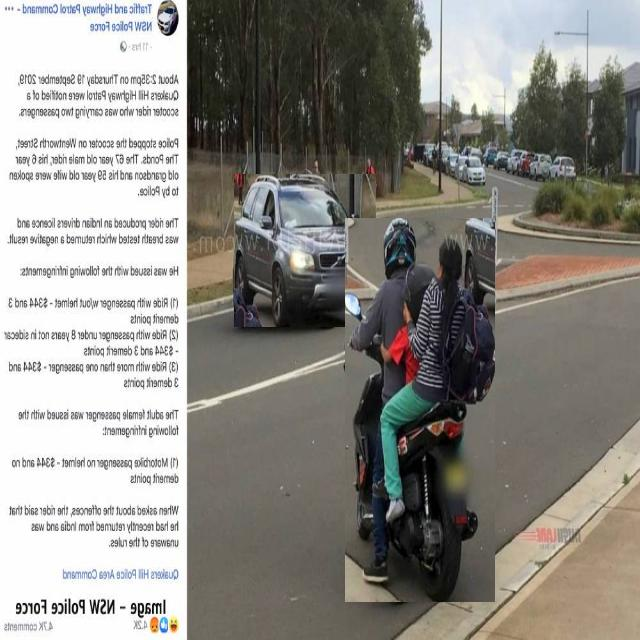car: (234, 174, 376, 327)
motorcycle: (345, 219, 495, 602)
